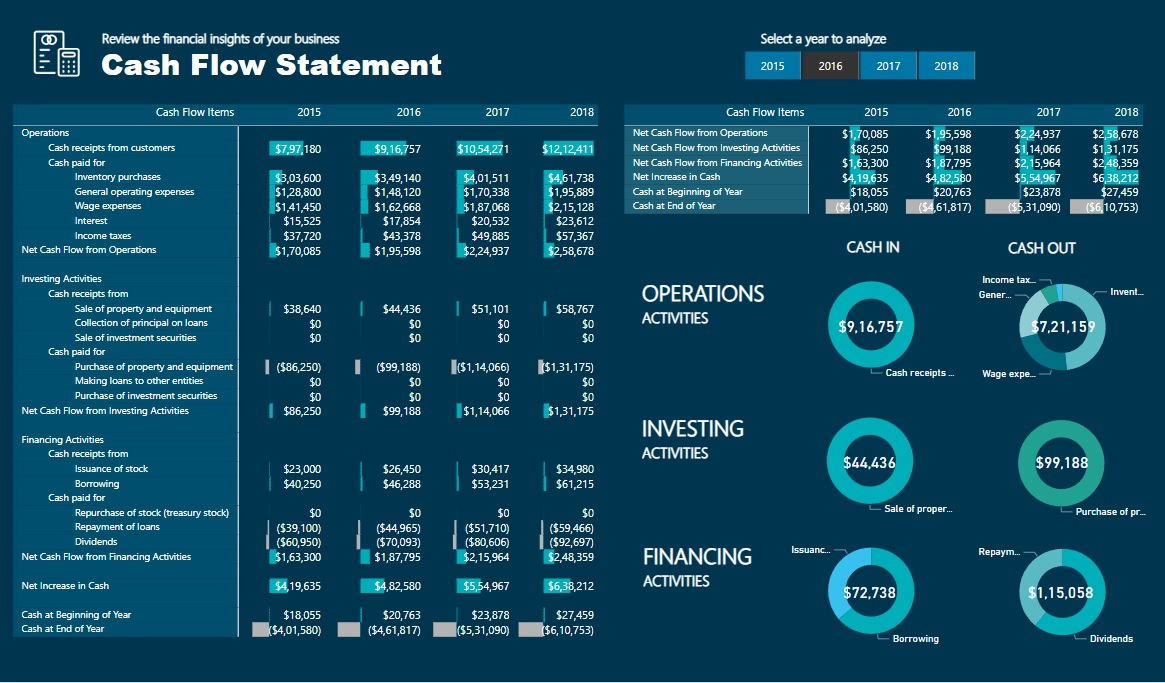

This screenshot's page, from the dashboard's own definition file:
{"tool":"powerbi","page":{"name":"Cash Flow Statement","canvas":[1280,720],"ordinal":4},"visuals":[{"type":"textbox","box":[105.4,14.7,447.5,67.4],"z":0},{"type":"donutChart","fields":{"Category":["Cash Flow Data.Cash Flow Sub Category"],"Y":["Cash Flow Analysis.Absolute C/F Values"]},"box":[858.5,259.5,195.2,139.1],"z":1000},{"type":"textbox","box":[107.6,0,291.5,34.4],"z":2000},{"type":"image","box":[18.3,1.1,88.2,60.2],"z":3000},{"type":"slicer","fields":{"Values":["Dates.Year"]},"box":[790.6,21.7,302.2,44.5],"z":4000},{"type":"textbox","box":[829.5,0,197.2,31.1],"z":5000},{"type":"pivotTable","fields":{"Rows":["Cash Flow Template.Row Index","Cash Flow Template.Cash Flow Items"],"Values":["Cash Flow Analysis.C/F Values"],"Columns":["Dates.Year"]},"box":[9.8,82.1,663.3,617.9],"z":8000},{"type":"pivotTable","fields":{"Rows":["Cash Flow Template.Row Index","Cash Flow Template.Cash Flow Items"],"Values":["Cash Flow Analysis.C/F Values"],"Columns":["Dates.Year"]},"box":[680.1,82.3,593.9,137.4],"z":9000},{"type":"textbox","box":[699.7,273,170.3,73.7],"z":10000},{"type":"textbox","box":[698.7,421.5,170.3,73.7],"z":11000},{"type":"textbox","box":[700.7,560.6,170.3,72.7],"z":12000},{"type":"textbox","box":[898,226.3,119.4,37.4],"z":13000},{"type":"textbox","box":[1082.8,227.3,119.4,37.4],"z":14000},{"type":"donutChart","fields":{"Category":["Cash Flow Data.Cash Flow Sub Category"],"Y":["Cash Flow Analysis.Absolute C/F Values"]},"box":[1068.2,261.6,195.2,139.1],"z":15000},{"type":"donutChart","fields":{"Category":["Cash Flow Data.Cash Flow Sub Category"],"Y":["Cash Flow Analysis.Absolute C/F Values"]},"box":[857.1,408.6,195.2,139.1],"z":16000},{"type":"donutChart","fields":{"Category":["Cash Flow Data.Cash Flow Sub Category"],"Y":["Cash Flow Analysis.Absolute C/F Values"]},"box":[1066.8,410.7,195.2,139.1],"z":17000},{"type":"donutChart","fields":{"Category":["Cash Flow Data.Cash Flow Sub Category"],"Y":["Cash Flow Analysis.Absolute C/F Values"]},"box":[857.8,550.5,195.2,139.1],"z":18000},{"type":"donutChart","fields":{"Category":["Cash Flow Data.Cash Flow Sub Category"],"Y":["Cash Flow Analysis.Absolute C/F Values"]},"box":[1067.5,552.6,195.2,139.1],"z":19000},{"type":"card","fields":{"Values":["Cash Flow Analysis.Absolute C/F Values"]},"box":[902.1,312.5,105.9,37.4],"z":20000},{"type":"card","fields":{"Values":["Cash Flow Analysis.Absolute C/F Values"]},"box":[1112.9,312.5,105.9,37.4],"z":21000},{"type":"card","fields":{"Values":["Cash Flow Analysis.Absolute C/F Values"]},"box":[900.7,461.6,105.9,37.4],"z":22000},{"type":"card","fields":{"Values":["Cash Flow Analysis.Absolute C/F Values"]},"box":[1111.4,461.6,105.9,37.4],"z":23000},{"type":"card","fields":{"Values":["Cash Flow Analysis.Absolute C/F Values"]},"box":[900.3,604.5,105.9,37.4],"z":24000},{"type":"card","fields":{"Values":["Cash Flow Analysis.Absolute C/F Values"]},"box":[1111.1,604.5,105.9,37.4],"z":25000}]}

Visuals, with their boxes on the page's 1280x720 design canvas (x1, y1, x2, y2). These are canvas units, not pixel positions in the 1165x683 screenshot, which may show the page scaled, cropped or inside an application window:
textbox: {"x1": 105, "y1": 15, "x2": 553, "y2": 82}
donutChart - Cash Flow Data.Cash Flow Sub Category x Cash Flow Analysis.Absolute C/F Values: {"x1": 858, "y1": 260, "x2": 1054, "y2": 399}
textbox: {"x1": 108, "y1": 0, "x2": 399, "y2": 34}
image: {"x1": 18, "y1": 1, "x2": 106, "y2": 61}
slicer - Dates.Year: {"x1": 791, "y1": 22, "x2": 1093, "y2": 66}
textbox: {"x1": 830, "y1": 0, "x2": 1027, "y2": 31}
pivotTable - Cash Flow Template.Row Index x Cash Flow Template.Cash Flow Items: {"x1": 10, "y1": 82, "x2": 673, "y2": 700}
pivotTable - Cash Flow Template.Row Index x Cash Flow Template.Cash Flow Items: {"x1": 680, "y1": 82, "x2": 1274, "y2": 220}
textbox: {"x1": 700, "y1": 273, "x2": 870, "y2": 347}
textbox: {"x1": 699, "y1": 422, "x2": 869, "y2": 495}
textbox: {"x1": 701, "y1": 561, "x2": 871, "y2": 633}
textbox: {"x1": 898, "y1": 226, "x2": 1017, "y2": 264}
textbox: {"x1": 1083, "y1": 227, "x2": 1202, "y2": 265}
donutChart - Cash Flow Data.Cash Flow Sub Category x Cash Flow Analysis.Absolute C/F Values: {"x1": 1068, "y1": 262, "x2": 1263, "y2": 401}
donutChart - Cash Flow Data.Cash Flow Sub Category x Cash Flow Analysis.Absolute C/F Values: {"x1": 857, "y1": 409, "x2": 1052, "y2": 548}
donutChart - Cash Flow Data.Cash Flow Sub Category x Cash Flow Analysis.Absolute C/F Values: {"x1": 1067, "y1": 411, "x2": 1262, "y2": 550}
donutChart - Cash Flow Data.Cash Flow Sub Category x Cash Flow Analysis.Absolute C/F Values: {"x1": 858, "y1": 550, "x2": 1053, "y2": 690}
donutChart - Cash Flow Data.Cash Flow Sub Category x Cash Flow Analysis.Absolute C/F Values: {"x1": 1068, "y1": 553, "x2": 1263, "y2": 692}
card - Cash Flow Analysis.Absolute C/F Values: {"x1": 902, "y1": 312, "x2": 1008, "y2": 350}
card - Cash Flow Analysis.Absolute C/F Values: {"x1": 1113, "y1": 312, "x2": 1219, "y2": 350}
card - Cash Flow Analysis.Absolute C/F Values: {"x1": 901, "y1": 462, "x2": 1007, "y2": 499}
card - Cash Flow Analysis.Absolute C/F Values: {"x1": 1111, "y1": 462, "x2": 1217, "y2": 499}
card - Cash Flow Analysis.Absolute C/F Values: {"x1": 900, "y1": 604, "x2": 1006, "y2": 642}
card - Cash Flow Analysis.Absolute C/F Values: {"x1": 1111, "y1": 604, "x2": 1217, "y2": 642}
